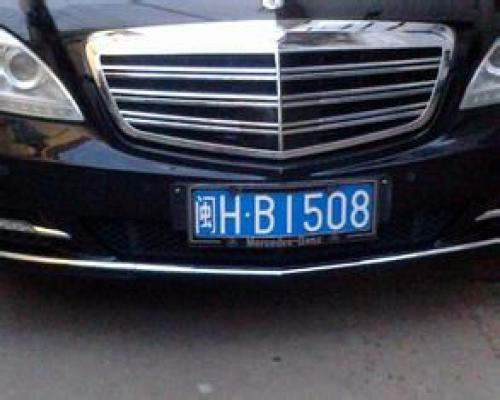Carplate: (186, 182, 386, 256)
